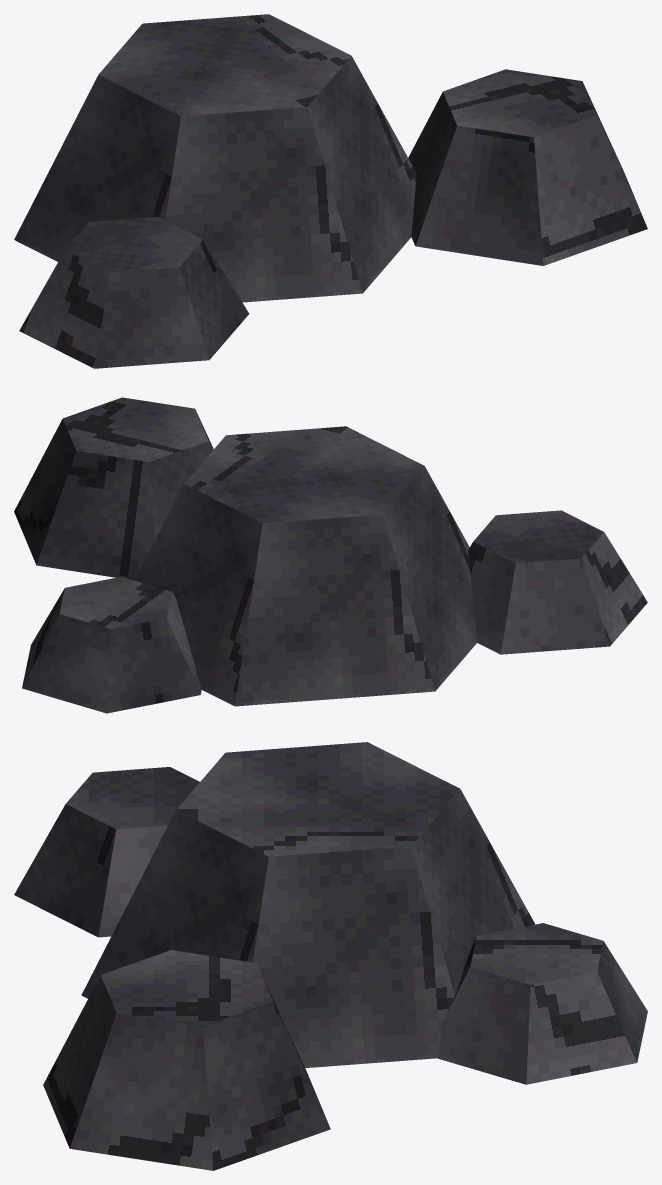
File: rocas_orilla.obj
The picture shows the model from 3 angles, top to bottom: view 1: azimuth 30°, elevation 25°; view 2: azimuth 150°, elevation 25°; view 3: azimuth 270°, elevation 25°; orthographic projection. The views are drawn at different scales.
Parts seen in each view (by area): view 1: rocas_orilla; view 2: rocas_orilla; view 3: rocas_orilla.
Part boxes in pixels (x1=…): rocas_orilla: x1=14, y1=14, x2=647, y2=368; rocas_orilla: x1=14, y1=397, x2=647, y2=713; rocas_orilla: x1=14, y1=742, x2=647, y2=1170.
Bounding box in the file's own units: 1.83 × 0.45 × 1.45.
1 material, 1 textured.
